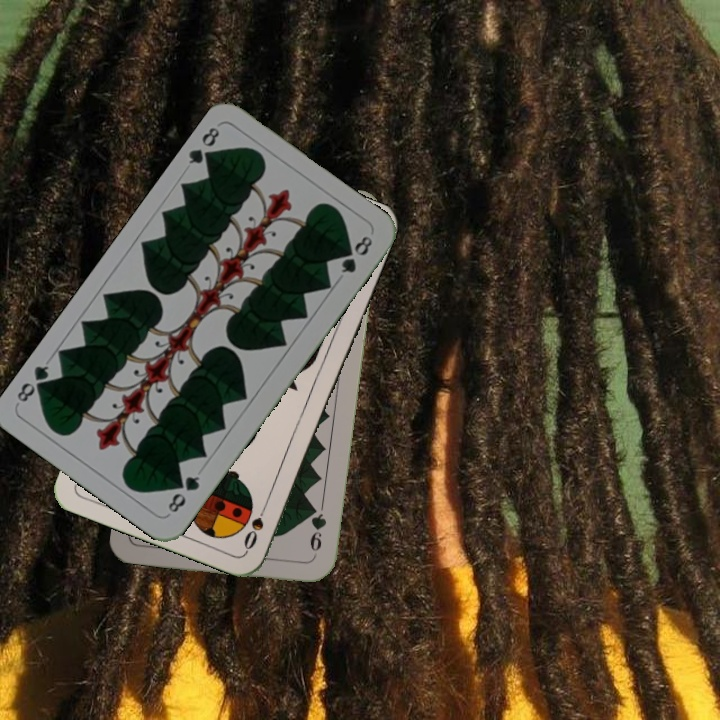G8: (163, 472, 203, 516), (184, 123, 222, 169)
G9: (305, 501, 329, 554)
SO: (239, 496, 271, 553)
